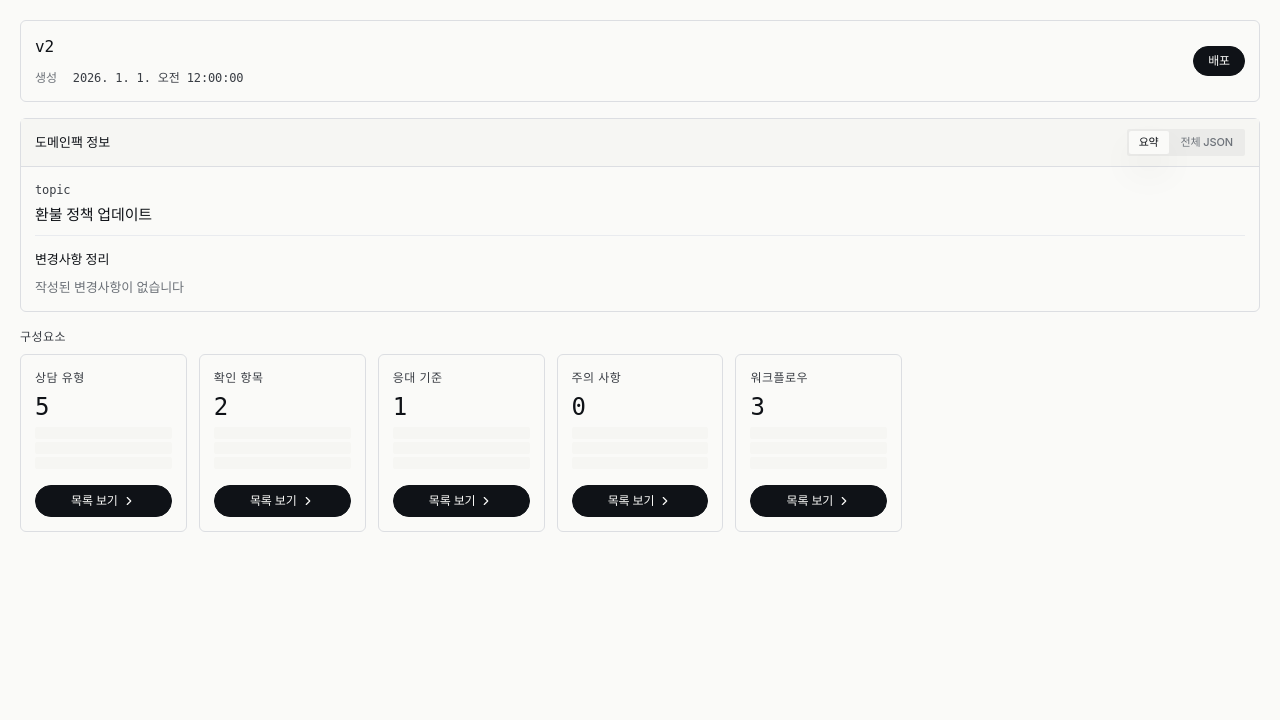
Scenario: SummaryDetailPanel › 배포 확인 다이얼로그는 취소 버튼으로 닫는다
Click the button "배포".
click(1219, 61)  # box [1193, 46, 1245, 76]
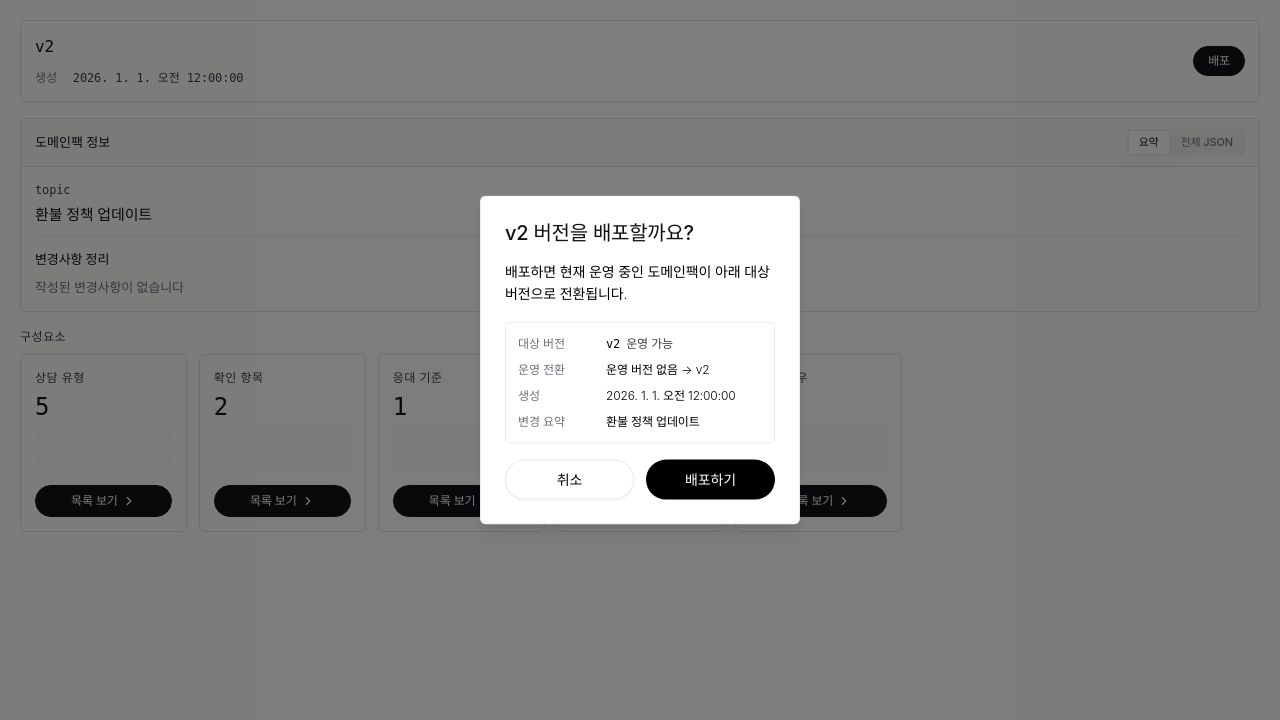
Click the button "취소".
click(570, 479)  # box [505, 459, 634, 499]
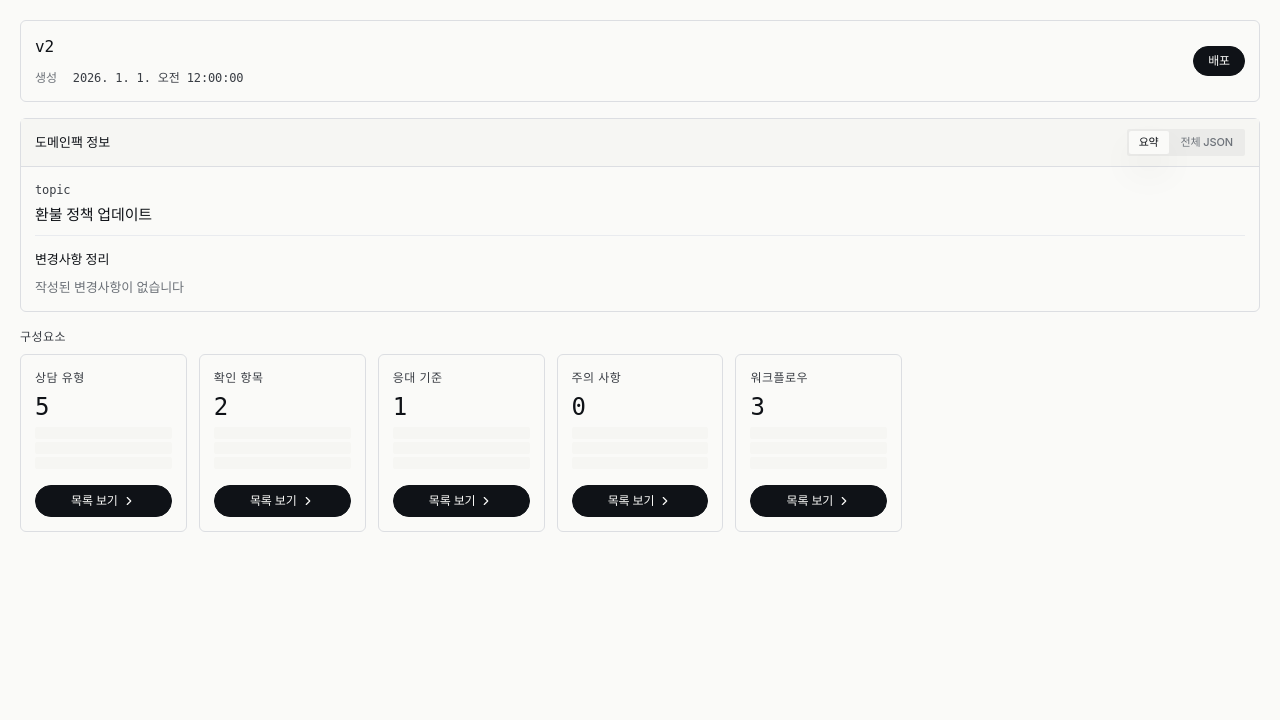
Expected: the heading "v2 버전을 배포할까요?" is gone
